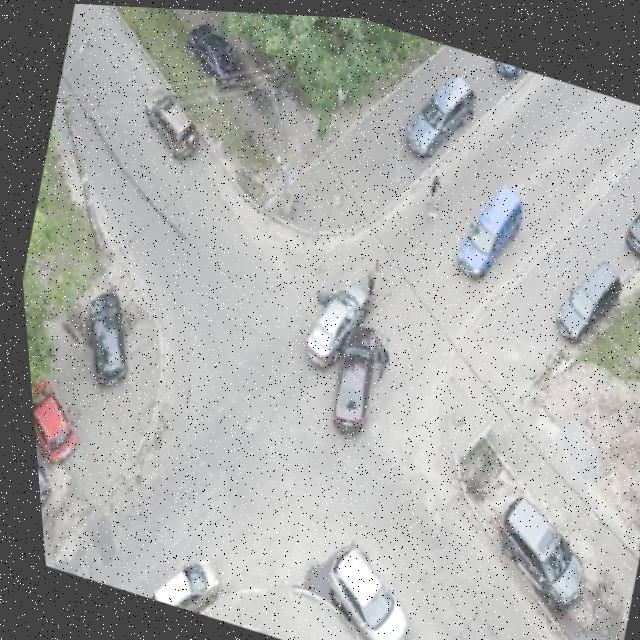Car Accident Detector - v4 Generation1 Exported: (271, 262, 398, 441)
